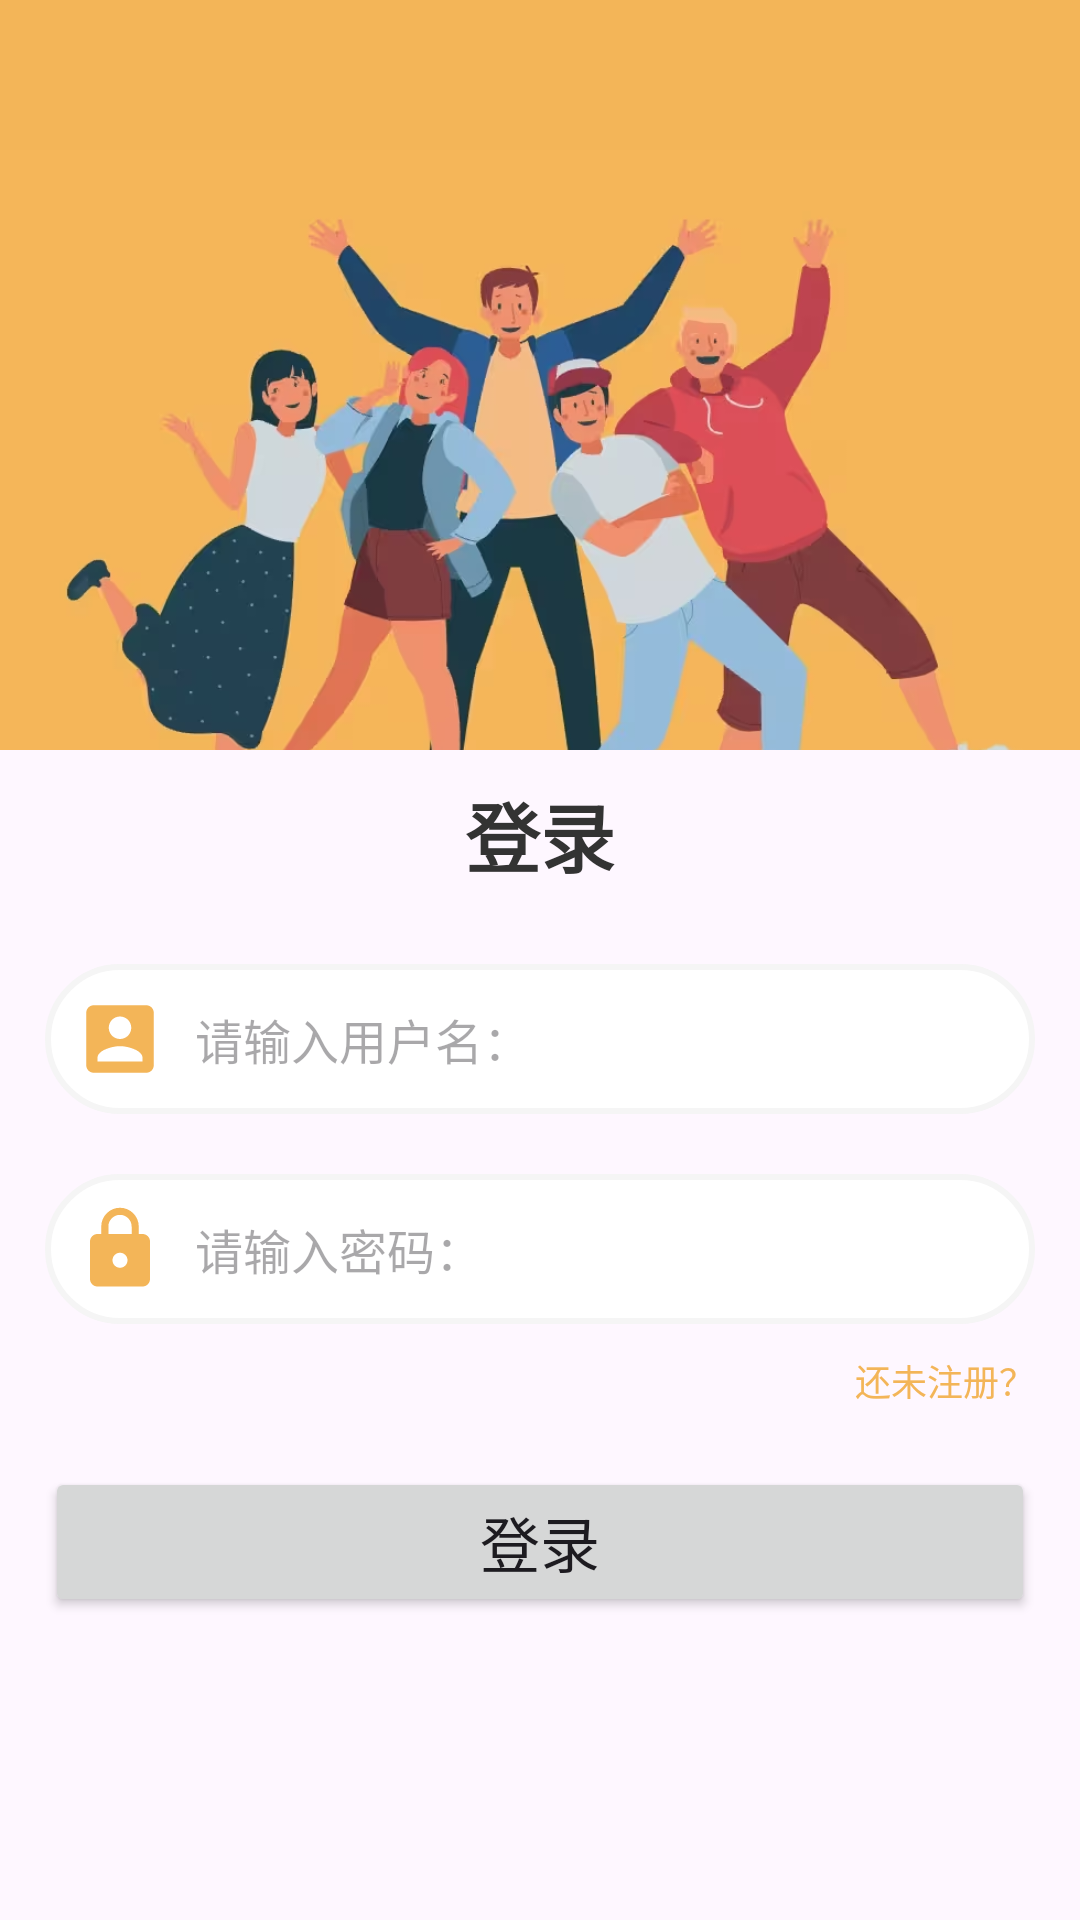

Named icons in this screenshot (1080×1920) and their bounding boxes, (x1, y1, x2, y2):
login account: (86, 1005, 154, 1073)
login password: (90, 1207, 150, 1287)
